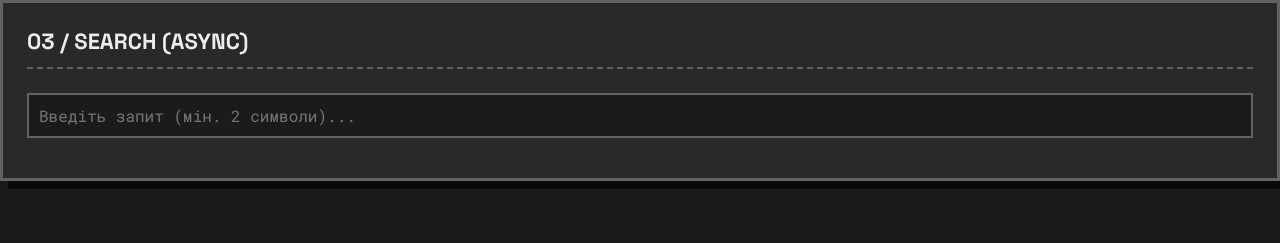
Scenario: SearchResults › відображає помилку при невдалому запиті
Type "тест" into the field named "search-input".
click(640, 116); type("тест")  # box [27,93,1253,138]
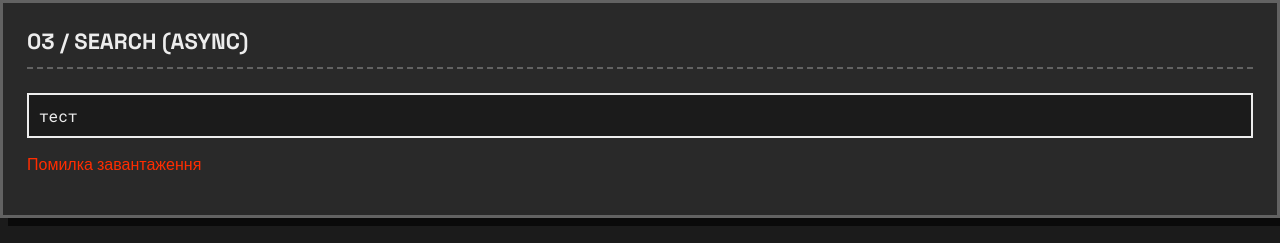
Now the message reads "Помилка завантаження", box [27,154,201,175]
